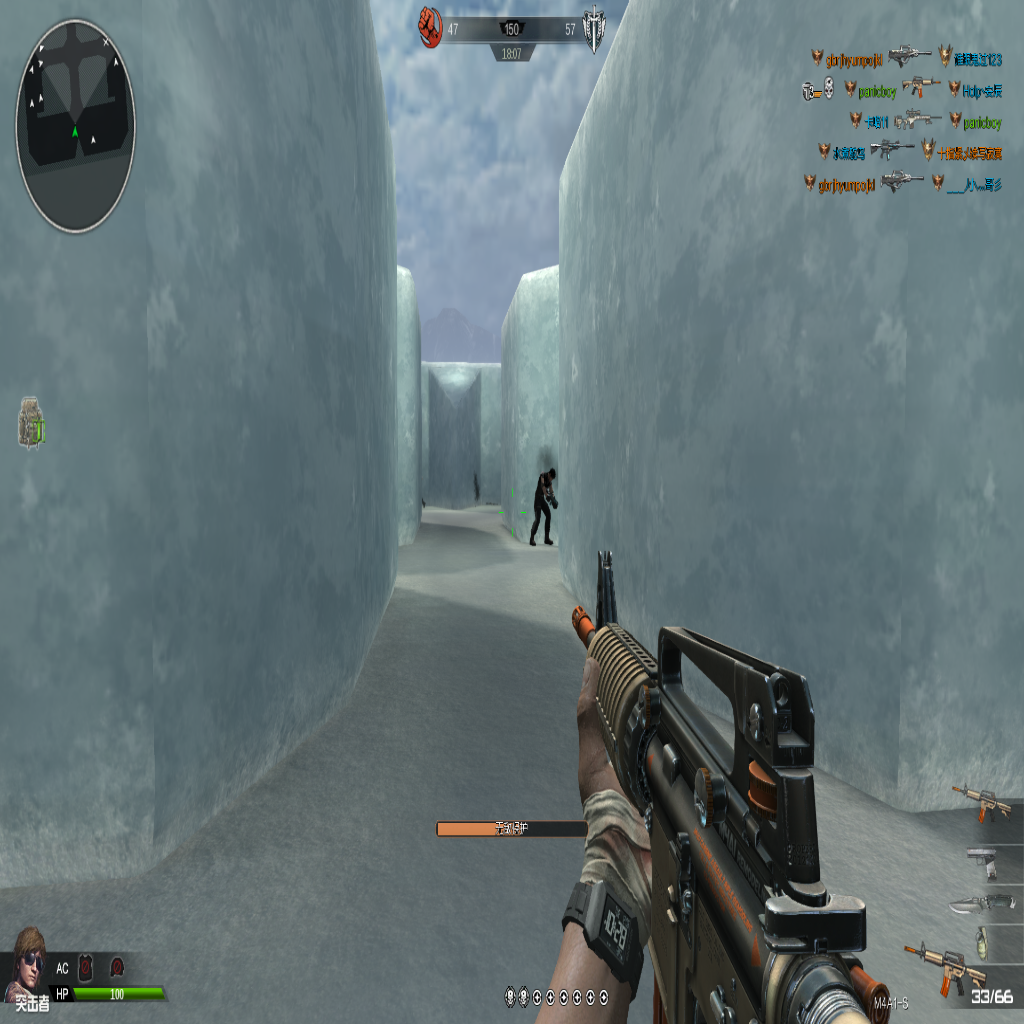ct: (530, 466, 560, 546)
